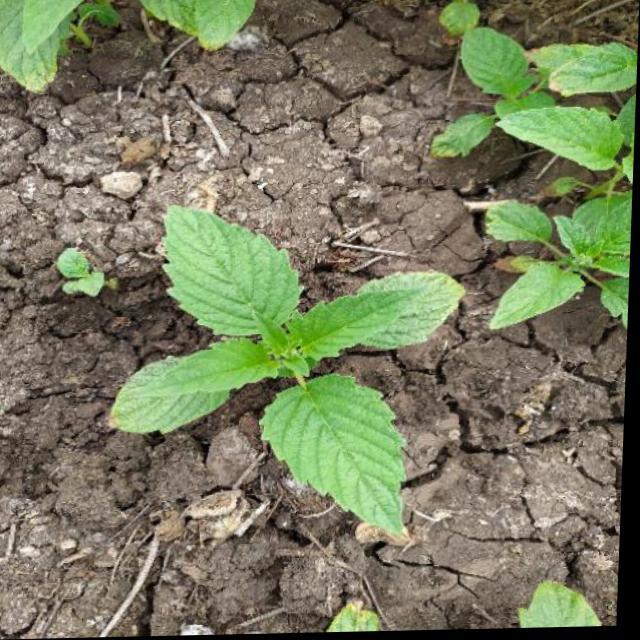crop: (112, 207, 471, 554), (442, 19, 634, 181), (476, 185, 633, 338)
